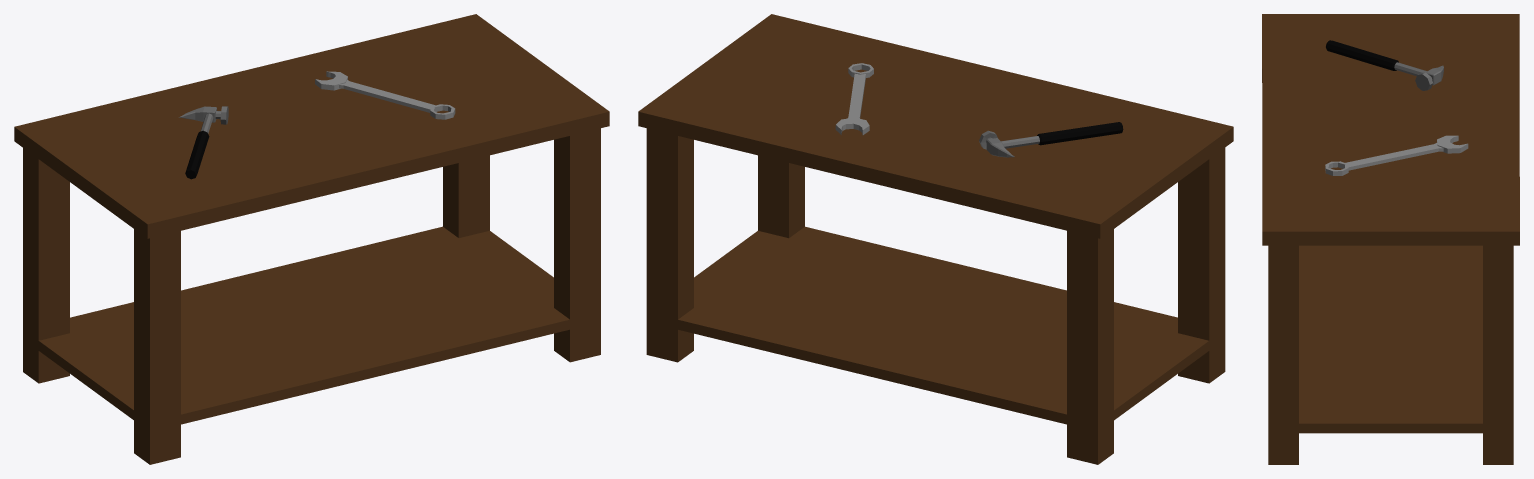
File: workbench.fbx
The picture shows the model from 3 angles, left to right: view 1: azimuth 30°, elevation 25°; view 2: azimuth 150°, elevation 25°; view 3: azimuth 270°, elevation 25°; orthographic projection. The views are drawn at different scales.
Visible parts, largest first — view 1: Plane; view 2: Plane; view 3: Plane.
Part boxes in pixels (x1=…): Plane: x1=14, y1=14, x2=609, y2=464; Plane: x1=638, y1=14, x2=1233, y2=464; Plane: x1=1262, y1=14, x2=1519, y2=464.
Size of the model in its own units: 400 by 216 by 200.
